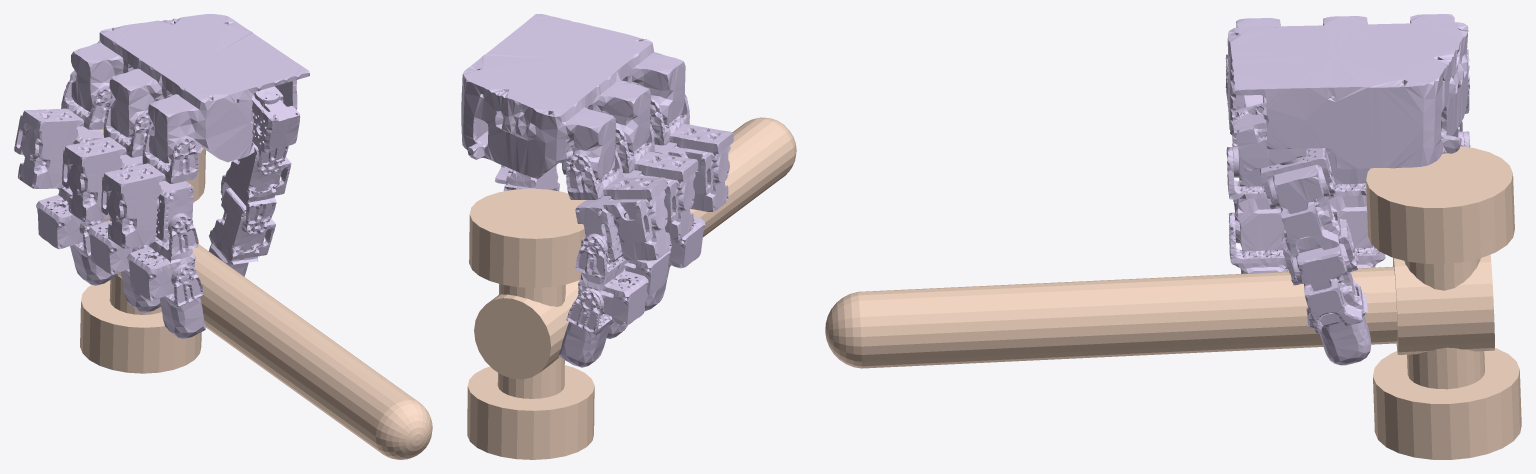
The model's file is aacf7d43ea0fd0-final.glb.
3 renders of one model, left to right at view 1: azimuth 30°, elevation 25°; view 2: azimuth 150°, elevation 25°; view 3: azimuth 270°, elevation 25°, orthographic. The views are drawn at different scales.
Visible parts, largest first — view 1: LEAP_hand, world; view 2: LEAP_hand, world; view 3: world, LEAP_hand.
Boxes of the visible parts, left/top/right/bottom form: LEAP_hand: left=14, top=14, right=309, bottom=338; world: left=80, top=129, right=432, bottom=459; LEAP_hand: left=461, top=14, right=733, bottom=367; world: left=467, top=117, right=796, bottom=459; world: left=825, top=146, right=1521, bottom=459; LEAP_hand: left=1225, top=14, right=1470, bottom=365.
Bounding box in the file's own units: 0.1475 × 0.2222 × 0.3597.
